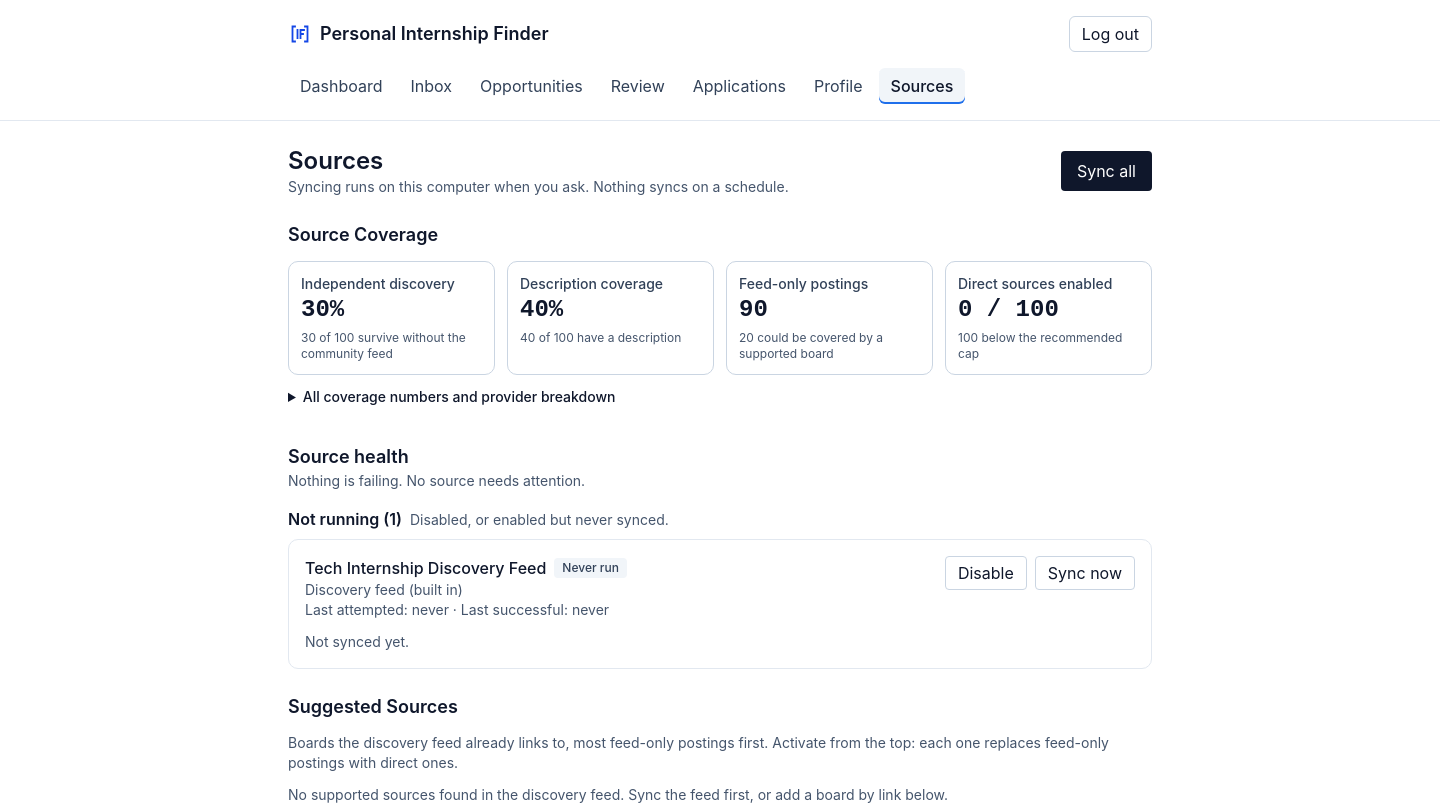
Test: source coverage › reloads coverage and suggestions after a sync
Click the button with aria-label "Sync Tech Internship Discovery Feed now" at (1085, 573), box [1035, 556, 1135, 590]
(page scrolled)
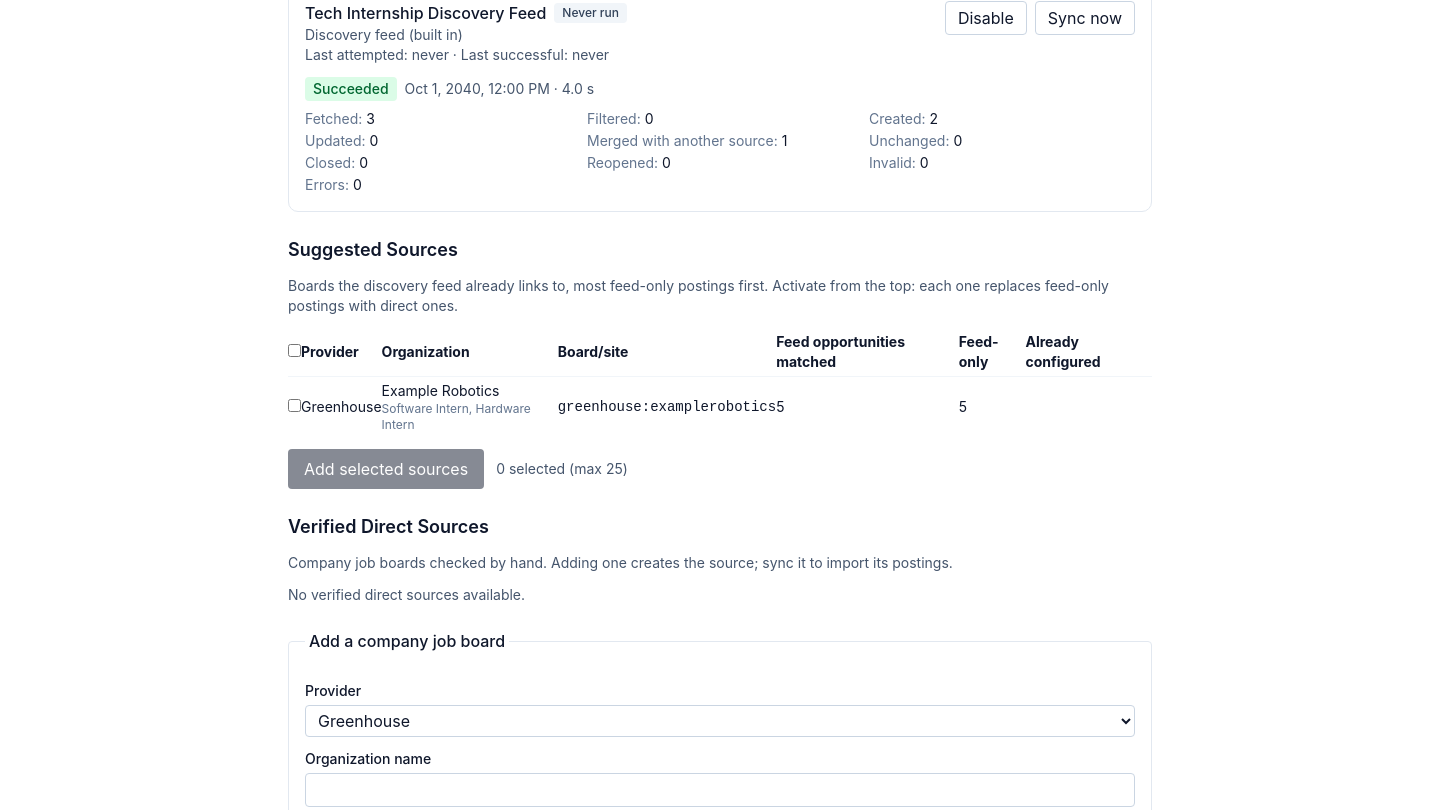
Result: the checkbox named "Select greenhouse:examplerobotics" is shown at [288, 399, 301, 412]
